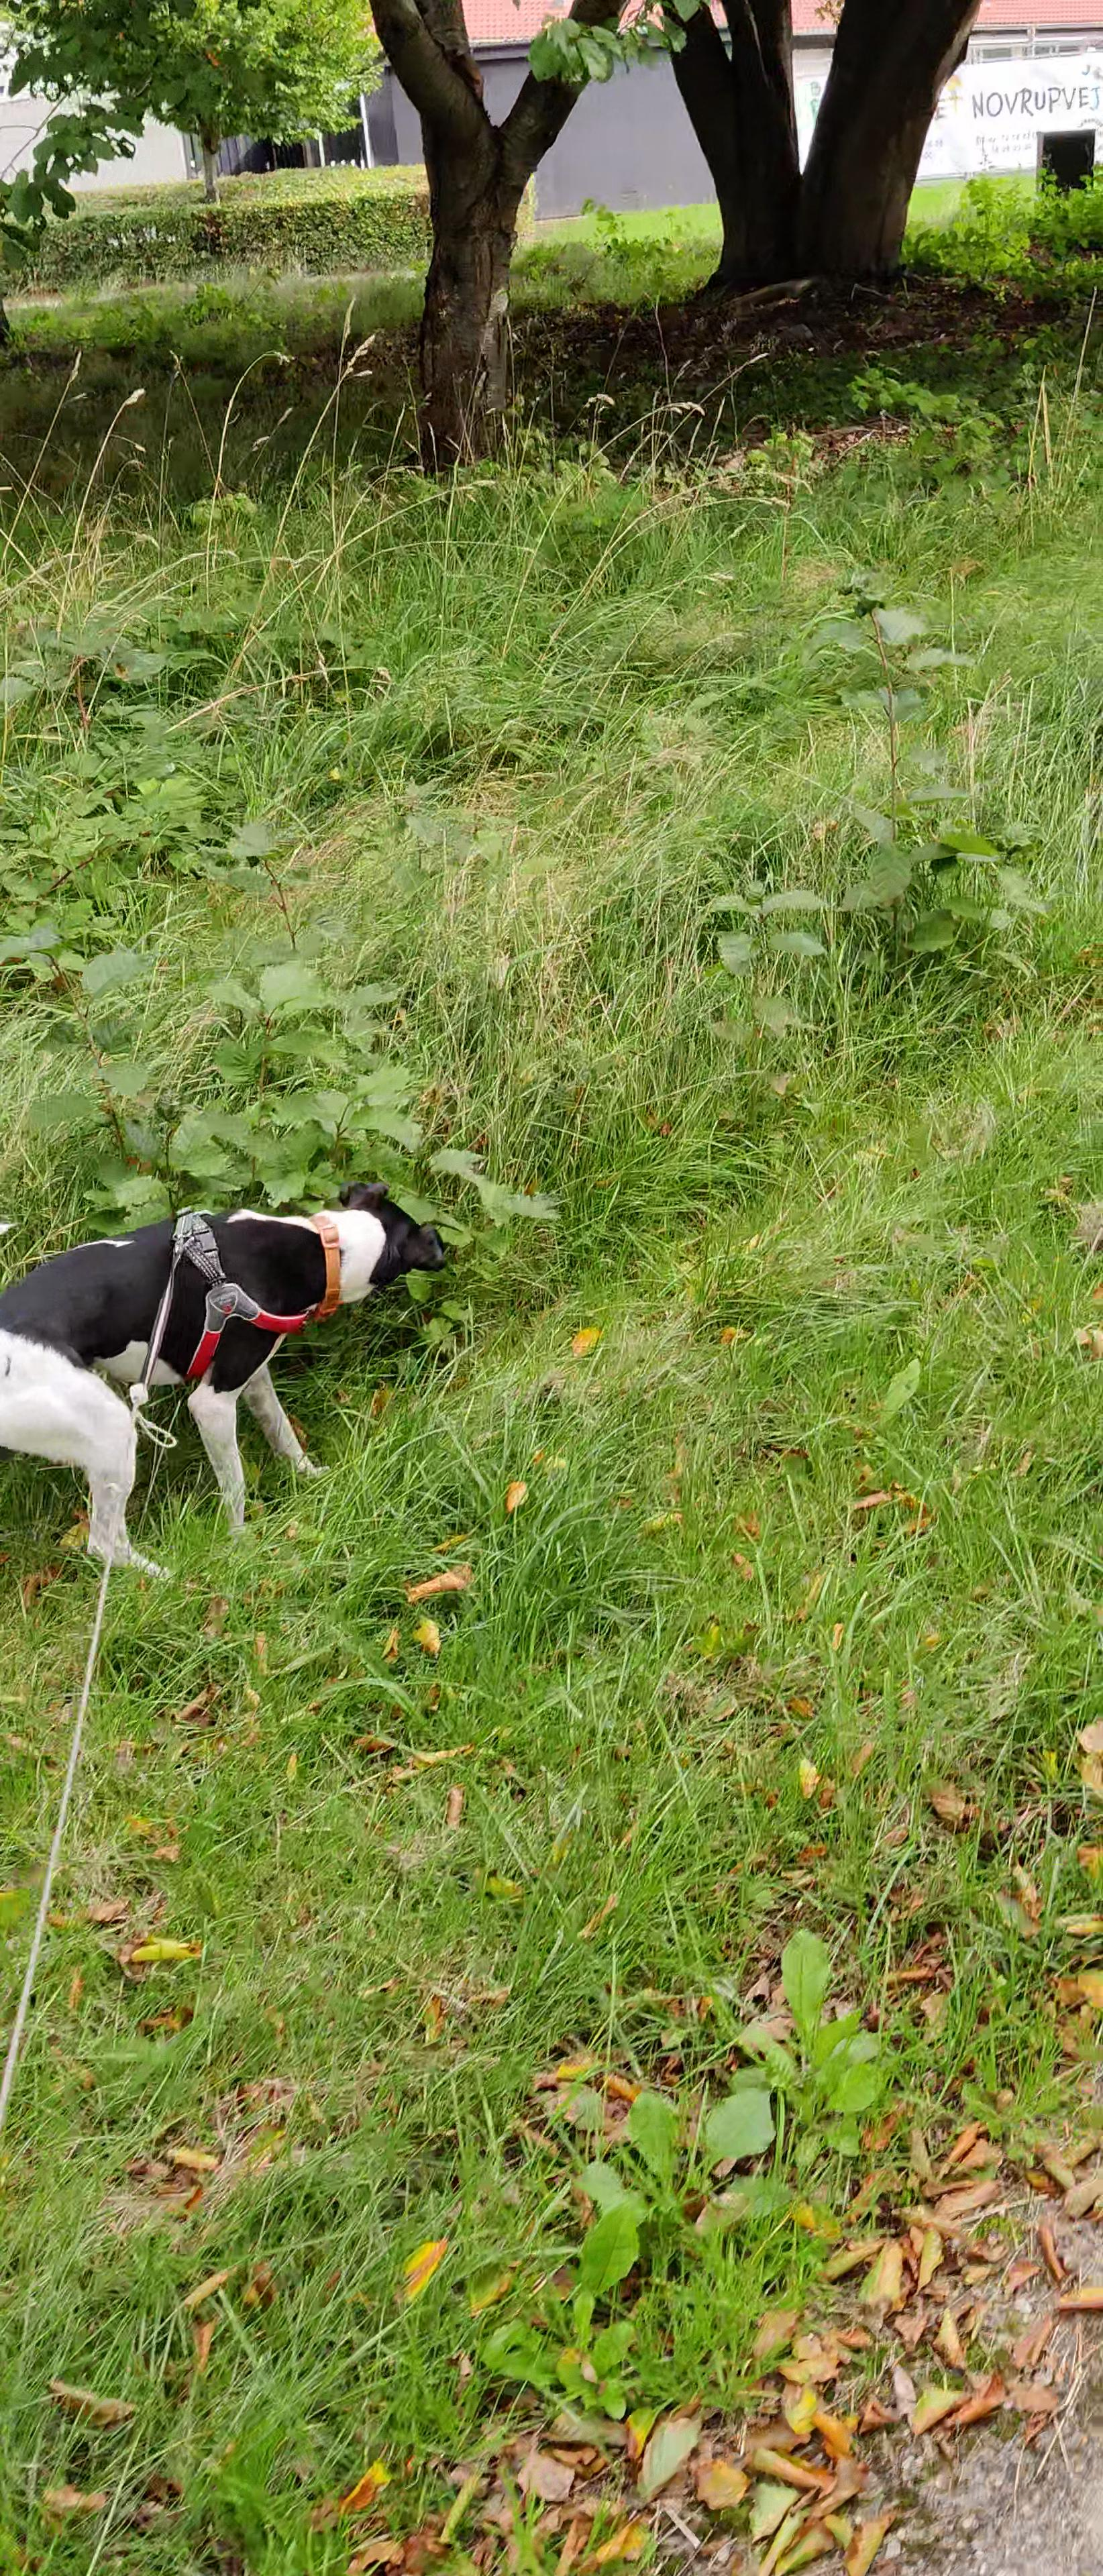Dog: (0, 1163, 459, 1594)
